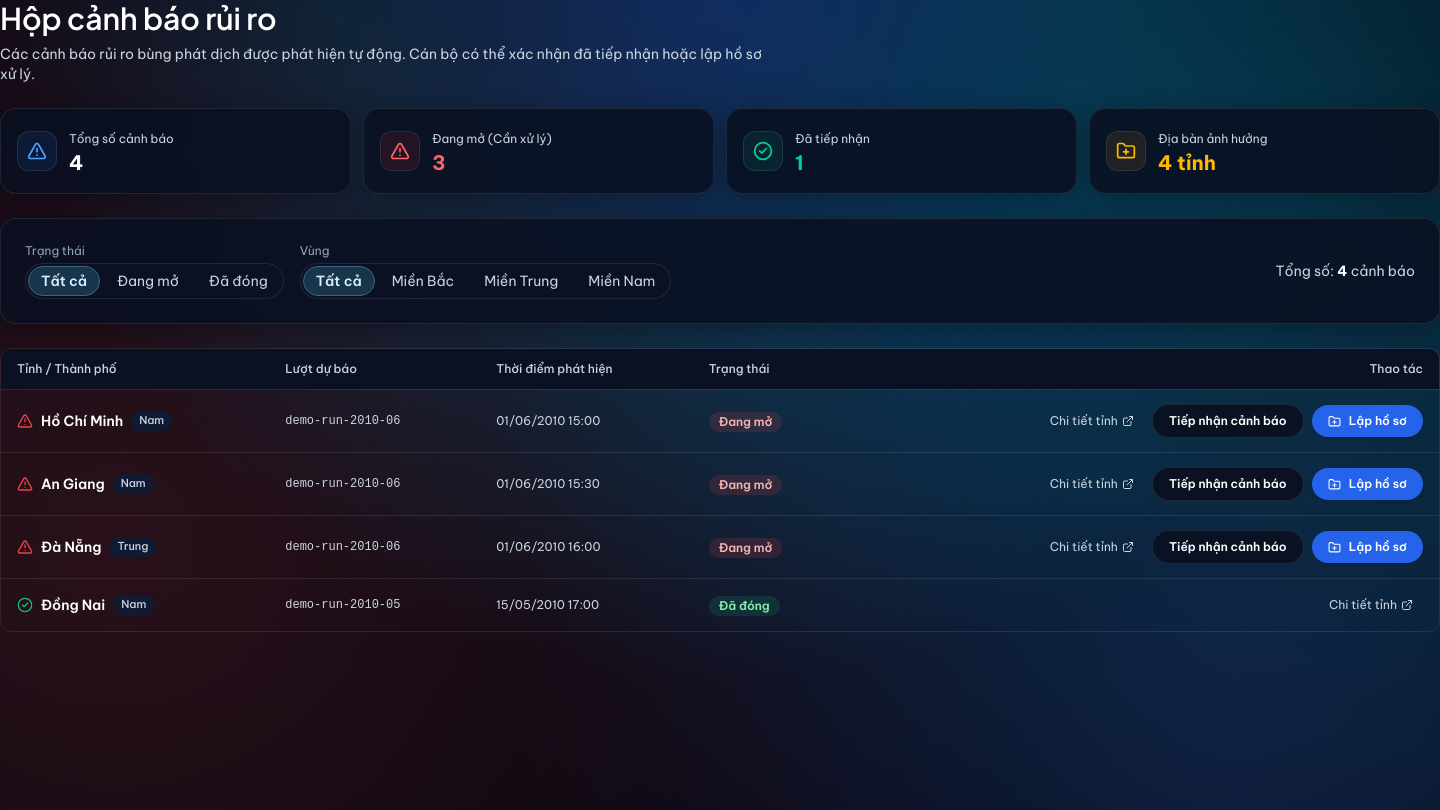
Test: AlertsPage (S6 Cảnh báo rủi ro) › officer xác nhận tiếp nhận cảnh báo thành công qua modal xác nhận
The width and height of the screenshot is (1440, 810).
Expected: the link "Hồ Chí Minh" is shown, [41, 411, 123, 431]
Click the button "Tiếp nhận cảnh báo" in the row of "Hồ Chí Minh" at [1228, 421], box [1152, 404, 1304, 438]
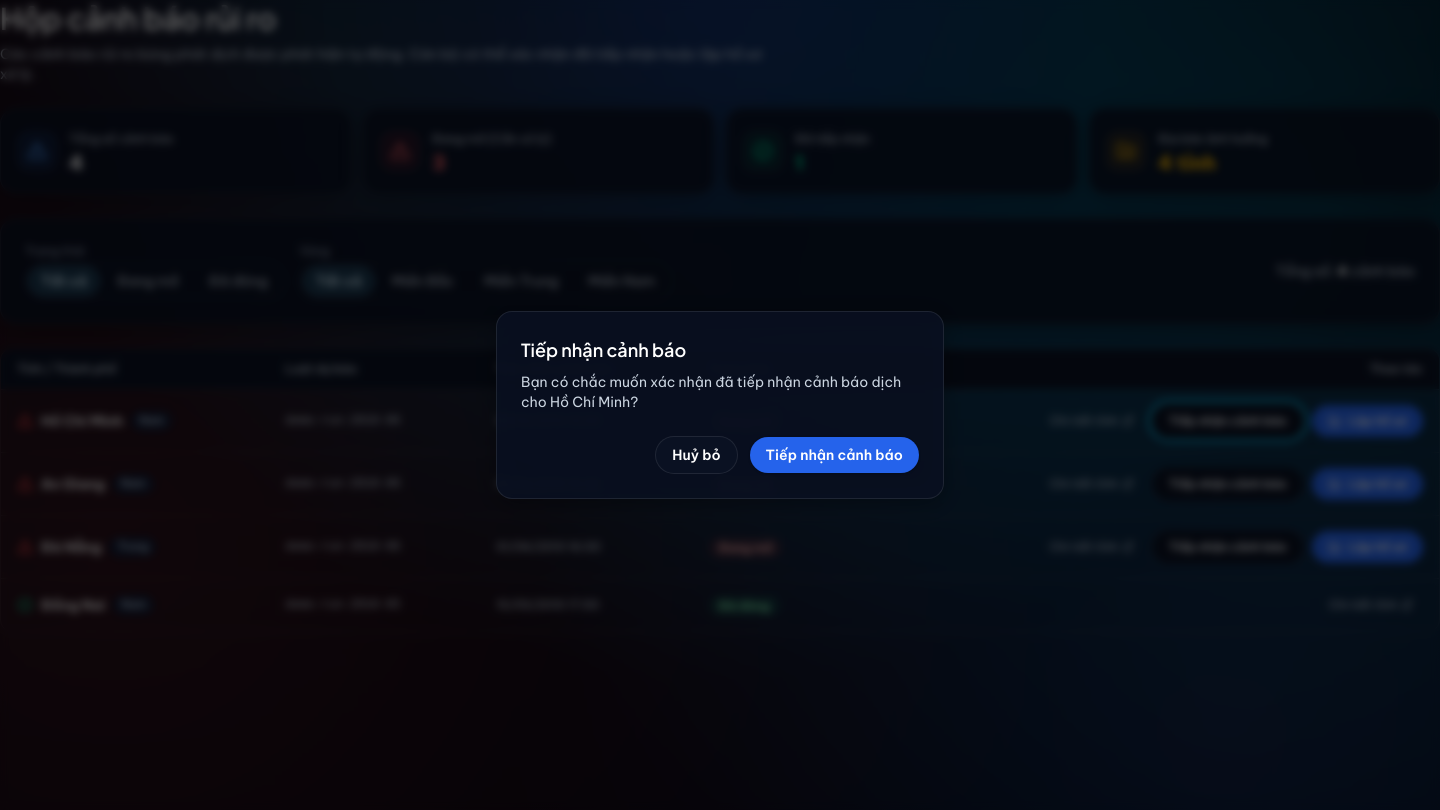
Result: the heading "Tiếp nhận cảnh báo" is shown at [521, 338, 686, 361]
Result: the text "xác nhận đã tiếp nhận cảnh báo dịch cho Hồ Chí Minh" is shown at [521, 373, 901, 411]
Click the button "Tiếp nhận cảnh báo" at [834, 455], box [750, 437, 919, 473]
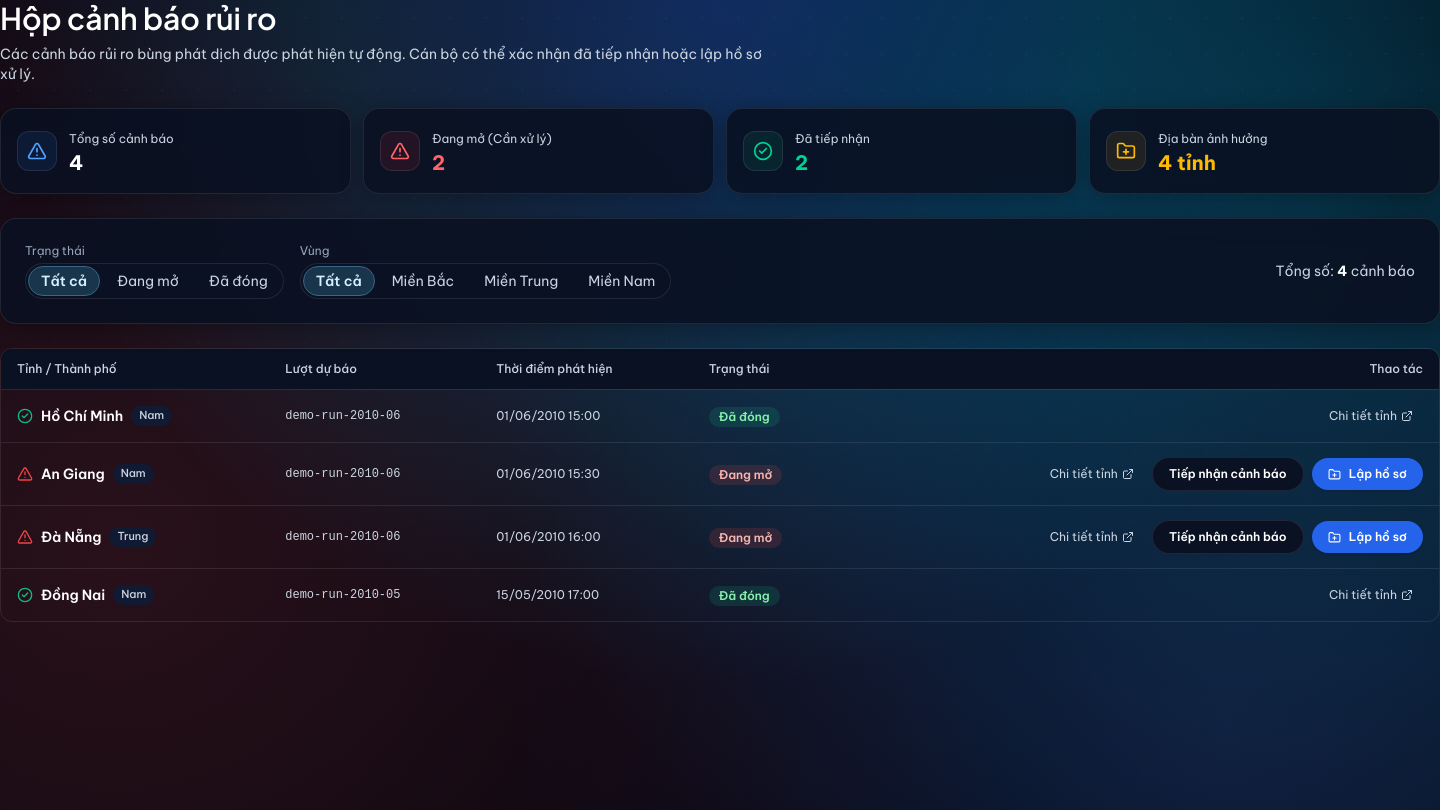
Result: the dialog is gone
